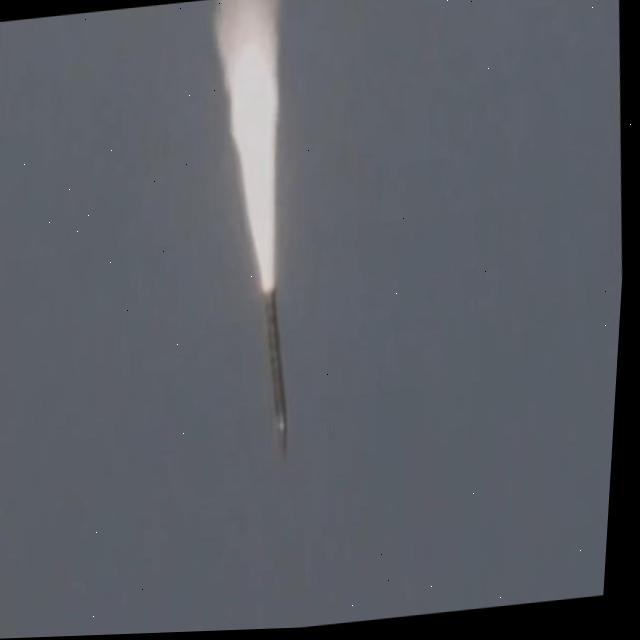missile: (249, 285, 305, 463)
